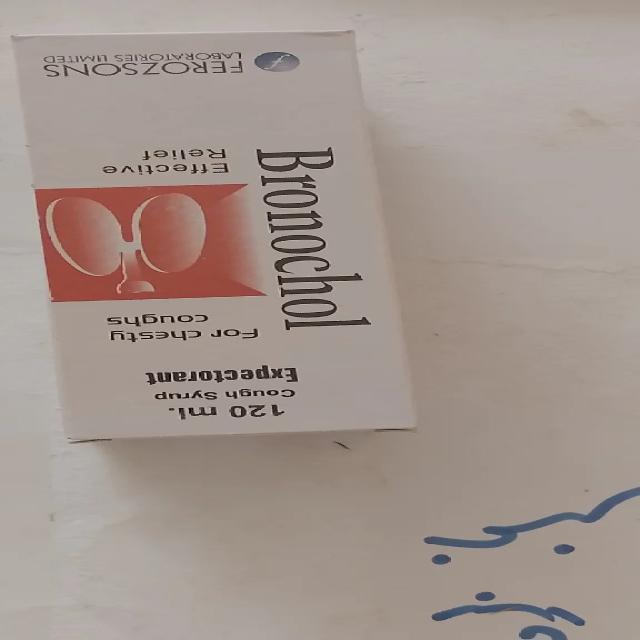drug-name: (253, 146, 375, 333)
